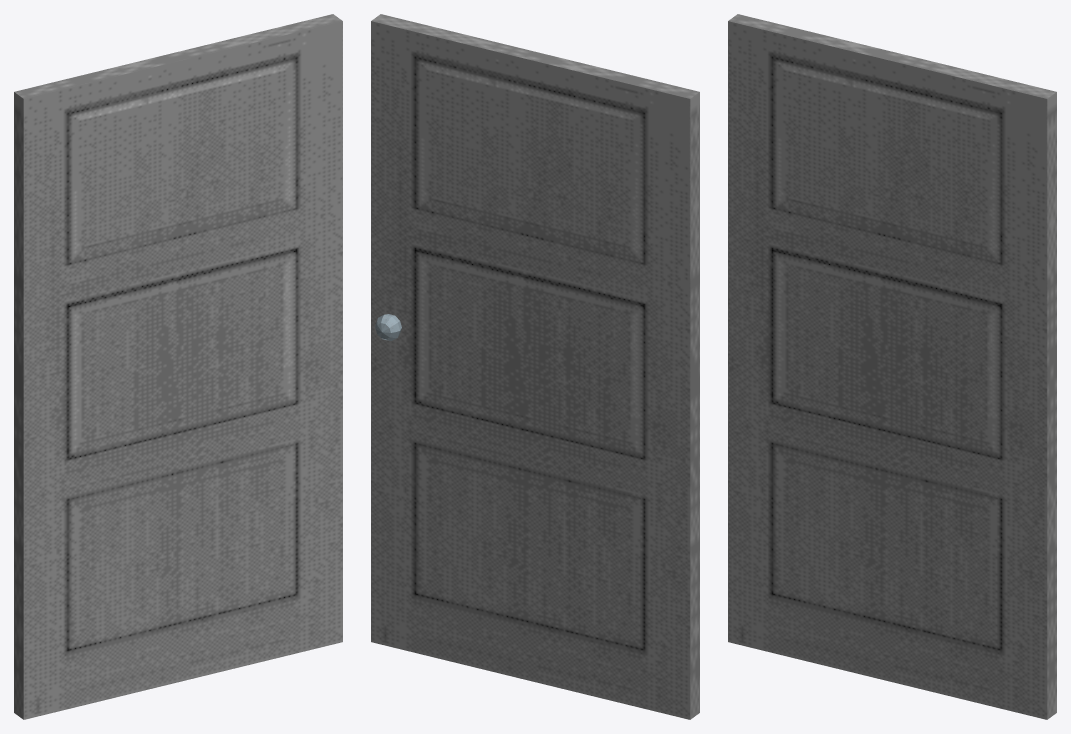
The model's file is door_07.glb.
3 views of the same model, side by side, from view 1: azimuth 30°, elevation 25°; view 2: azimuth 150°, elevation 25°; view 3: azimuth 330°, elevation 25° (orthographic).
Parts seen in each view (by area): view 1: polySurface41.001; view 2: polySurface41.001; view 3: polySurface41.001.
Part boxes in pixels (box(x1,y1,x2,y2)): polySurface41.001: box(14, 14, 342, 719); polySurface41.001: box(371, 14, 699, 719); polySurface41.001: box(728, 14, 1056, 719).
Size of the model in its own units: 1.13 by 2.1 by 0.1274.
Materials: 2 (2 with a texture image).
